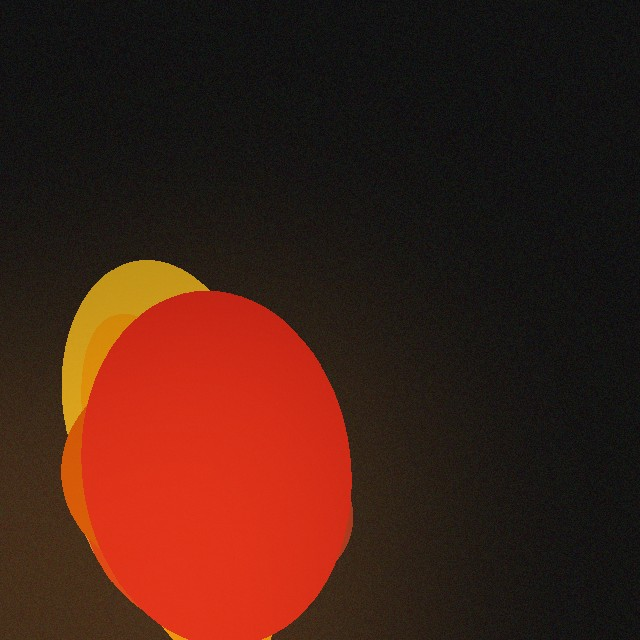fire: (63, 401, 349, 605)
